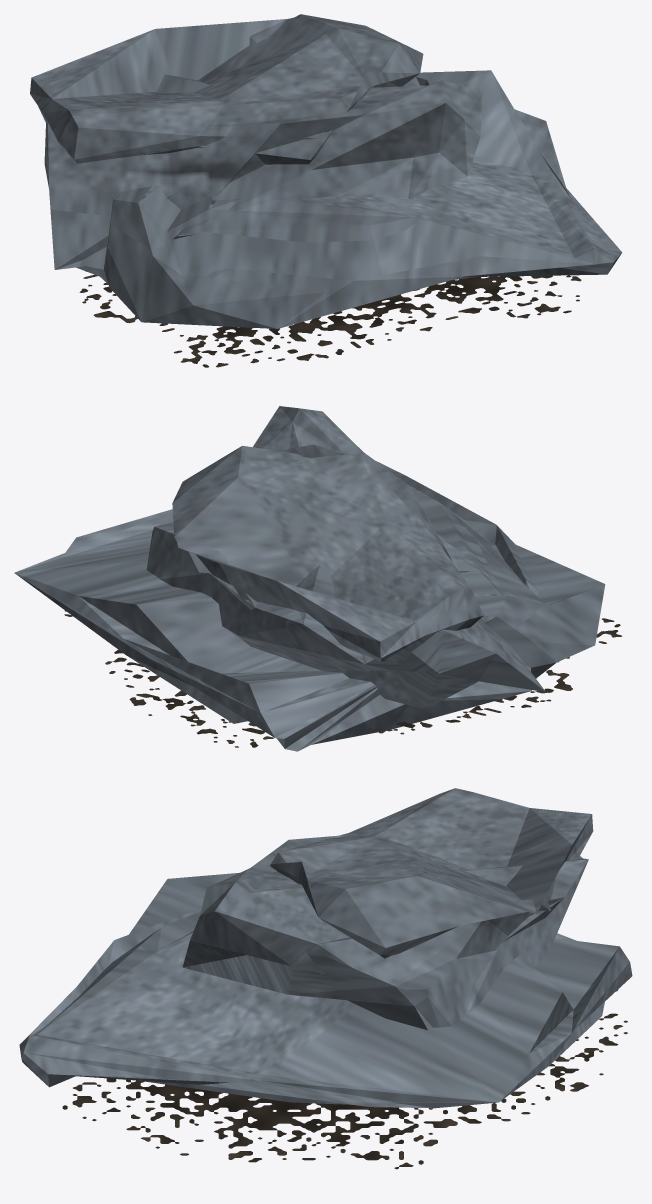
The model's file is rock_slab_01.glb.
The picture shows the model from 3 angles, top to bottom: view 1: azimuth 30°, elevation 25°; view 2: azimuth 150°, elevation 25°; view 3: azimuth 270°, elevation 25°; orthographic projection. The views are drawn at different scales.
Parts seen in each view (by area): view 1: rock_slab_01; view 2: rock_slab_01; view 3: rock_slab_01.
Part boxes in pixels (x1=…): rock_slab_01: x1=30, y1=14, x2=622, y2=367; rock_slab_01: x1=14, y1=406, x2=622, y2=751; rock_slab_01: x1=19, y1=788, x2=632, y2=1169.
Bounding box in the file's own units: 1.56 × 0.5188 × 1.4.
2 materials, 2 textured.
